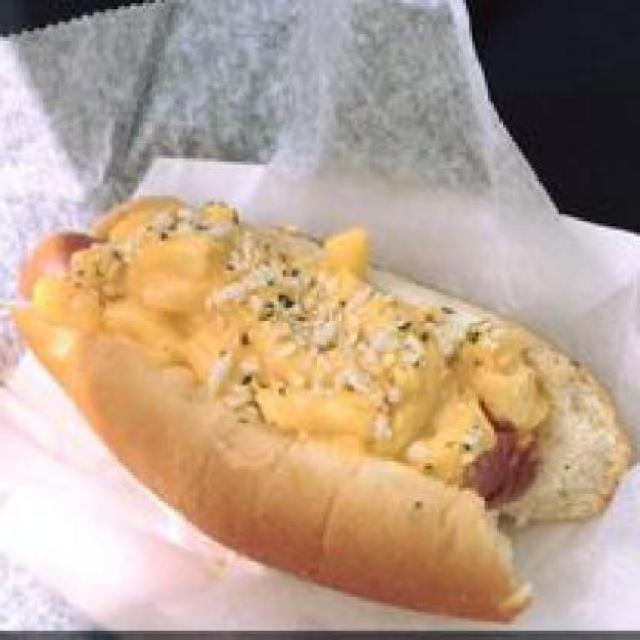hot dog: (456, 410, 559, 495), (15, 214, 103, 295)
macaroni and cheese: (90, 204, 510, 442)
